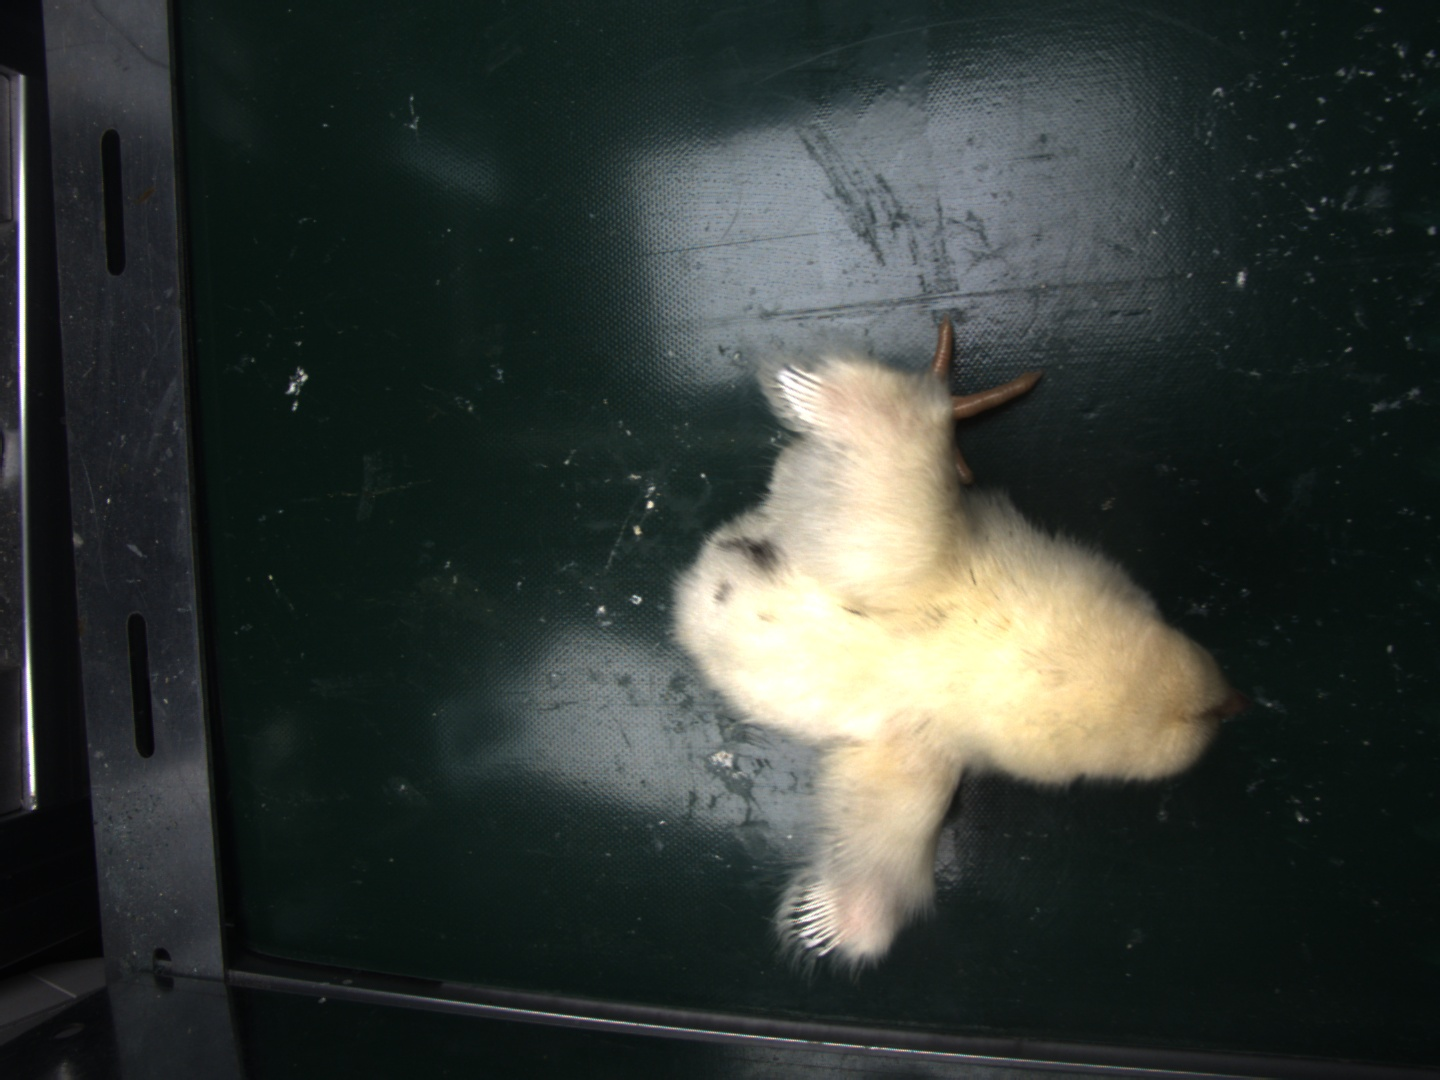male: (793, 884, 842, 953), (786, 366, 829, 428)
